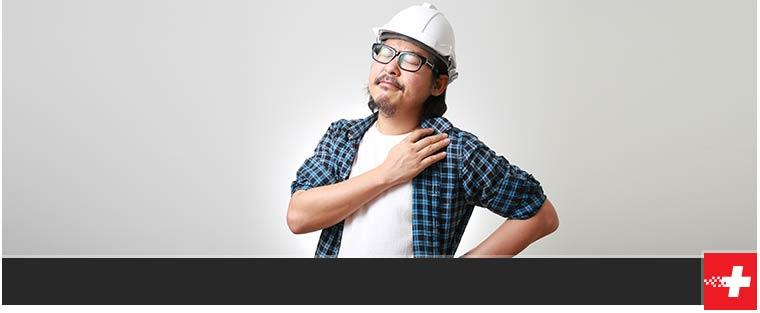helmet: (378, 3, 461, 72)
